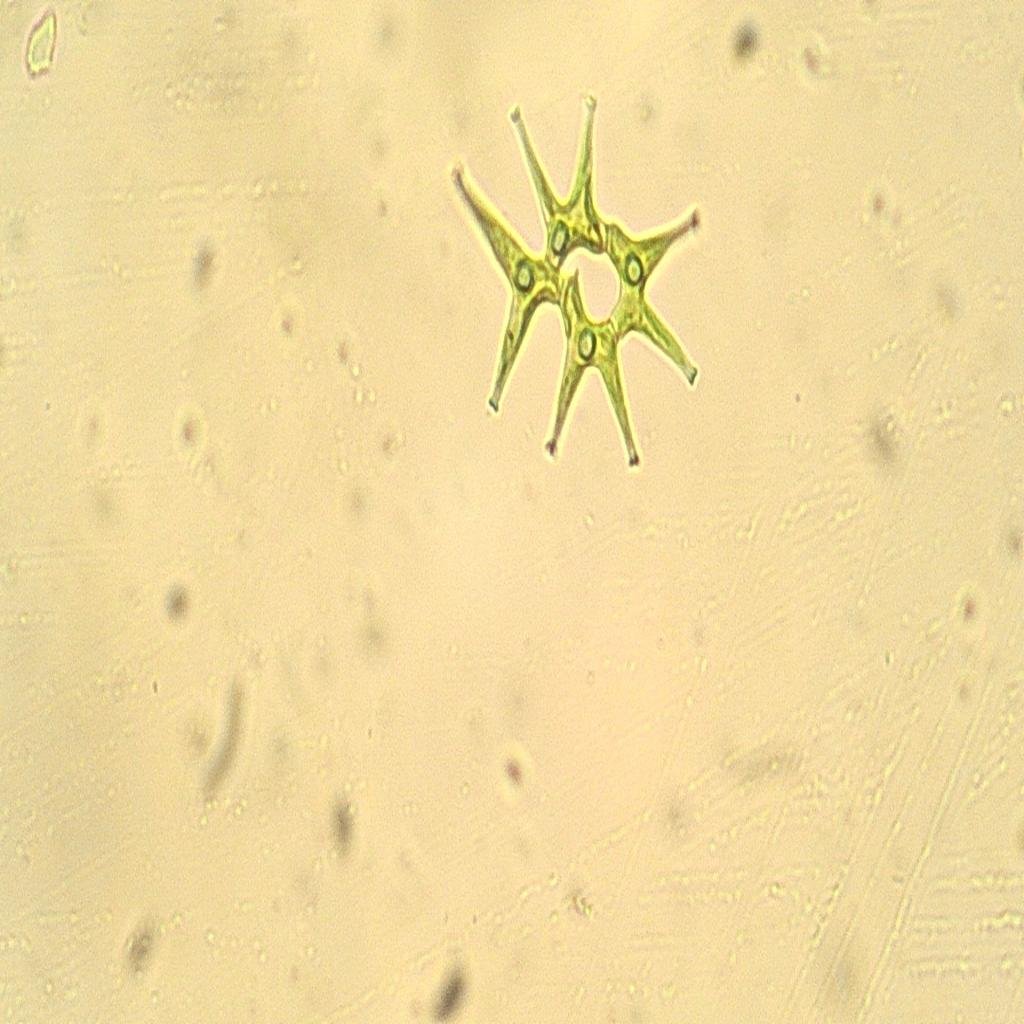Pediastrum_CF: (436, 62, 724, 531)
